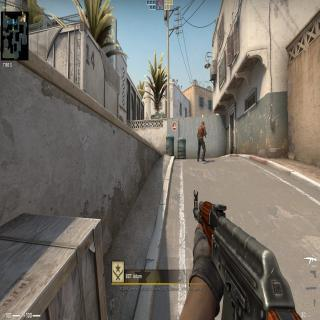T-Head: (202, 120, 204, 126)
